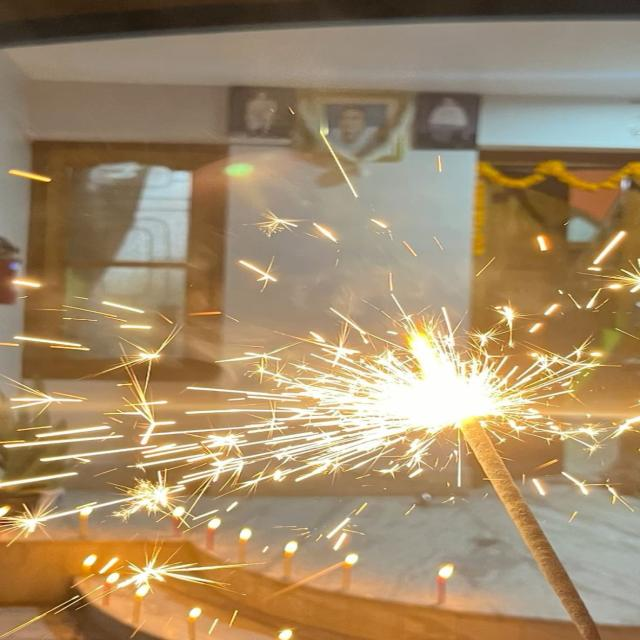fire: (368, 326, 510, 434)
